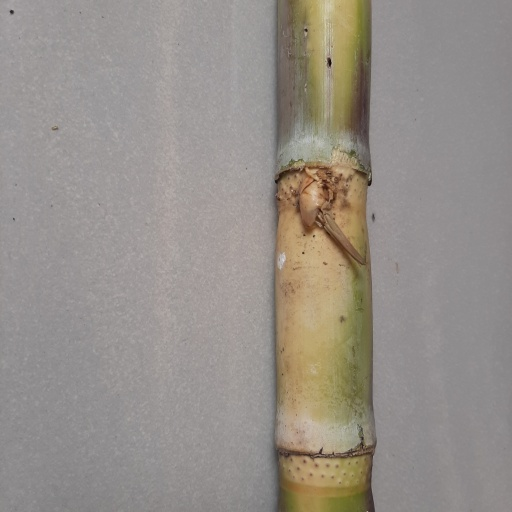Sprouted_Bud: (294, 170, 341, 237)
